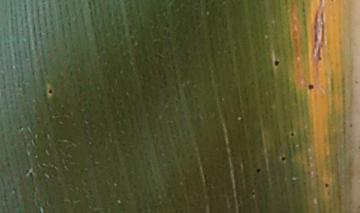tarspot: (271, 55, 282, 68), (305, 83, 316, 94), (47, 85, 55, 98), (255, 166, 263, 175), (322, 181, 331, 188), (281, 153, 287, 163), (289, 130, 295, 139)
